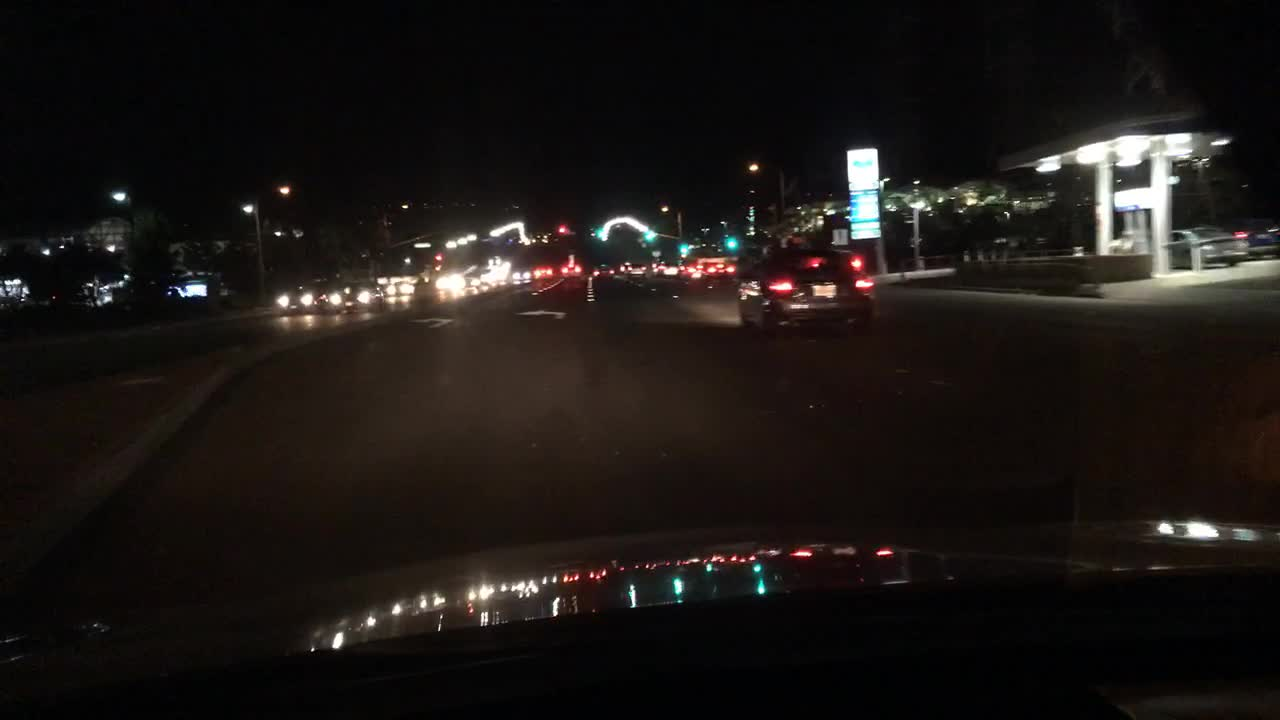car: (734, 248, 876, 335), (1165, 225, 1248, 272), (325, 281, 387, 313), (1095, 228, 1147, 258), (1238, 228, 1278, 261), (277, 288, 318, 313), (434, 272, 471, 295), (478, 268, 511, 287), (703, 259, 739, 276), (383, 279, 416, 295), (619, 260, 648, 278), (589, 262, 619, 279), (558, 261, 584, 278), (680, 264, 706, 281), (653, 259, 678, 275), (509, 268, 532, 285), (535, 266, 553, 281)
traffic light: (724, 232, 738, 251), (640, 229, 656, 242), (432, 249, 442, 264), (680, 243, 690, 256), (559, 223, 567, 237), (593, 228, 601, 240)
traffic sign: (833, 229, 847, 247)
